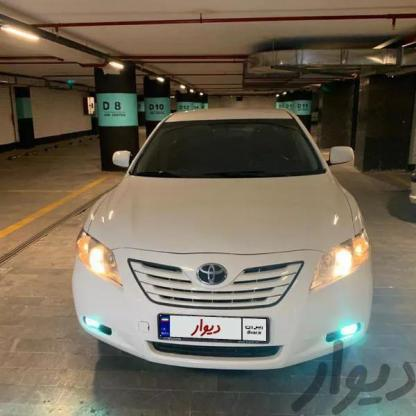Car: (70, 100, 380, 380)
